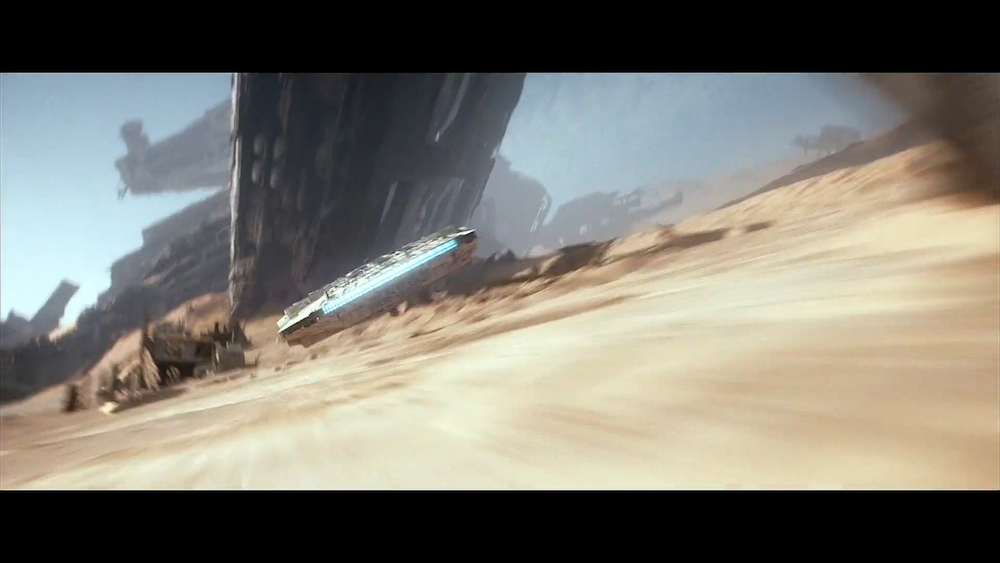Millennium Falcon: (276, 225, 482, 350)
